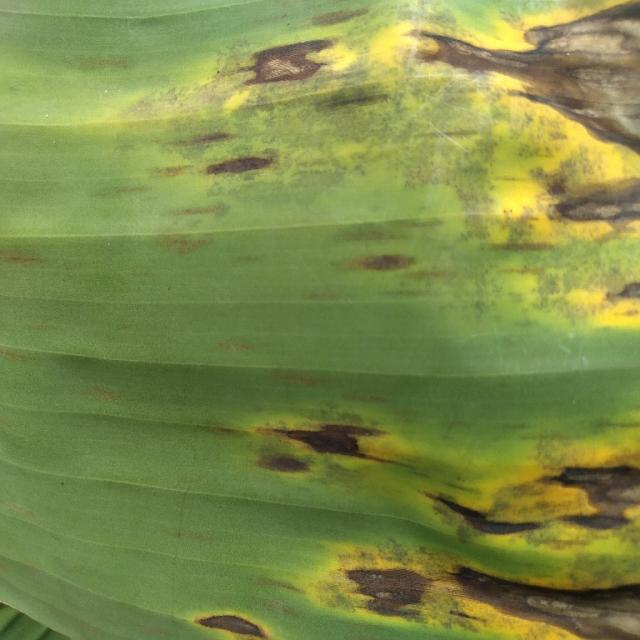Early_rust: (117, 0, 640, 357), (155, 387, 640, 640)
